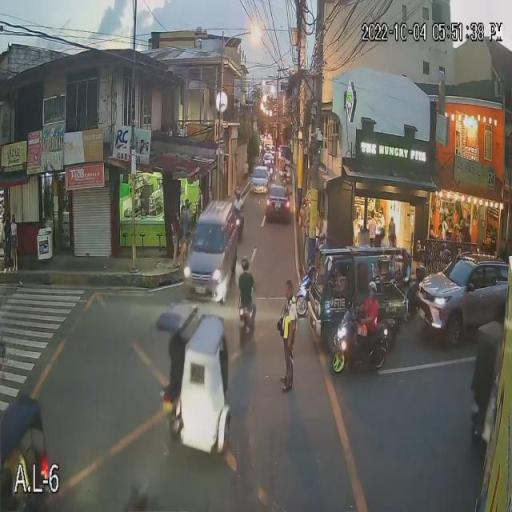helmet: (368, 282, 376, 299), (241, 257, 250, 272), (319, 244, 330, 250), (236, 193, 240, 200)
motorcycle: (332, 311, 395, 372), (236, 297, 257, 338), (296, 268, 310, 317), (234, 217, 244, 237)
rider: (354, 299, 380, 361), (238, 273, 256, 319), (234, 199, 244, 221)
